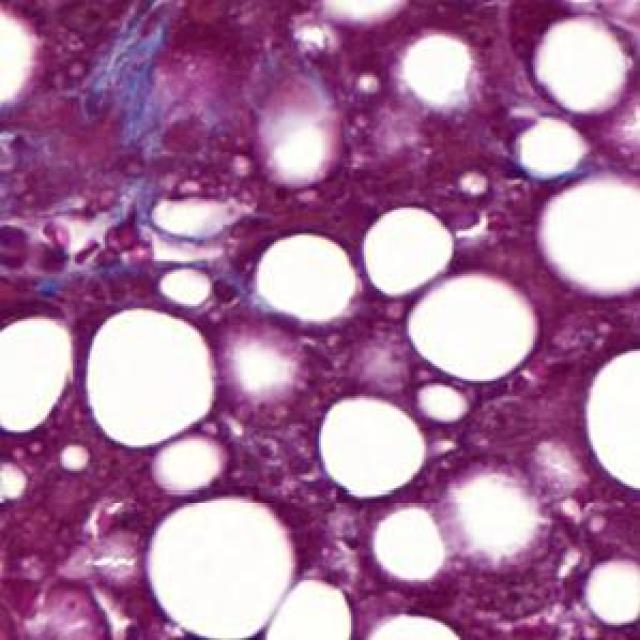steatosis: (88, 308, 216, 448), (319, 396, 426, 499), (0, 312, 77, 434), (584, 351, 640, 490)
